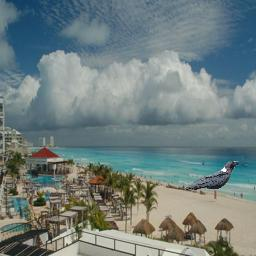Crow: (184, 161, 239, 191)
